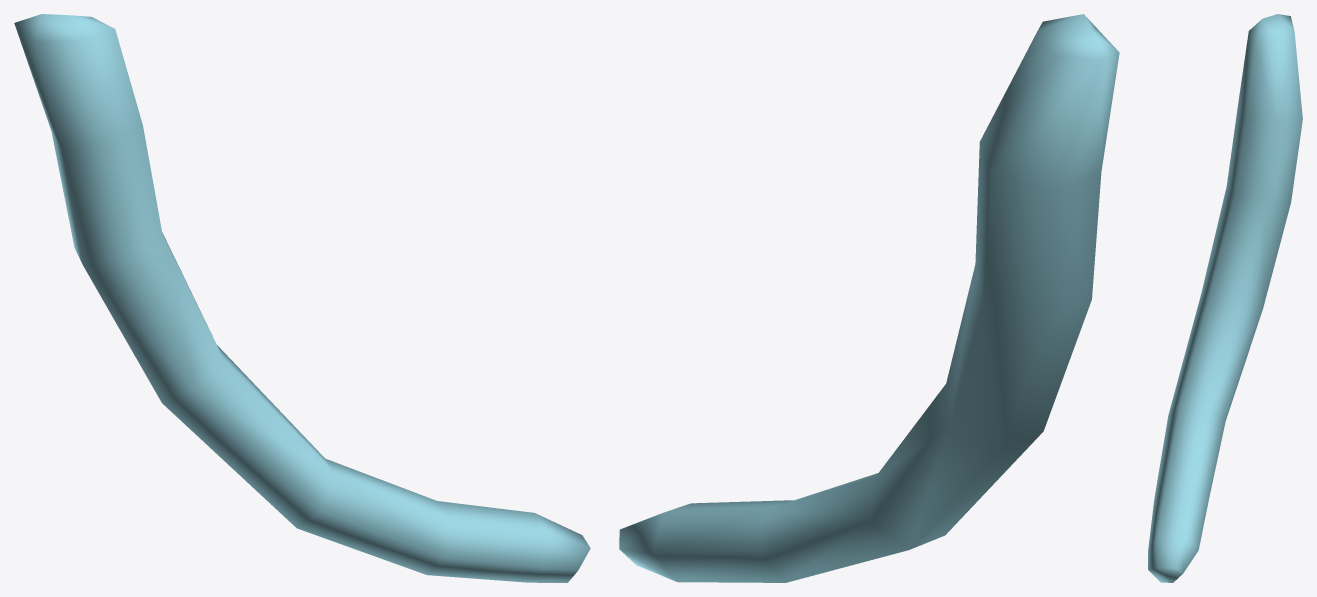
The picture shows the model from 3 angles, left to right: view 1: azimuth 30°, elevation 25°; view 2: azimuth 150°, elevation 25°; view 3: azimuth 270°, elevation 25°; orthographic projection. The views are drawn at different scales.
Visible parts, largest first — view 1: CC R1; view 2: CC R1; view 3: CC R1.
Boxes of the visible parts, x1=… form: CC R1: x1=14, y1=14, x2=590, y2=582; CC R1: x1=619, y1=14, x2=1119, y2=582; CC R1: x1=1148, y1=14, x2=1302, y2=582.
Size of the model in its own units: 1.03 by 1.26 by 0.4182.
